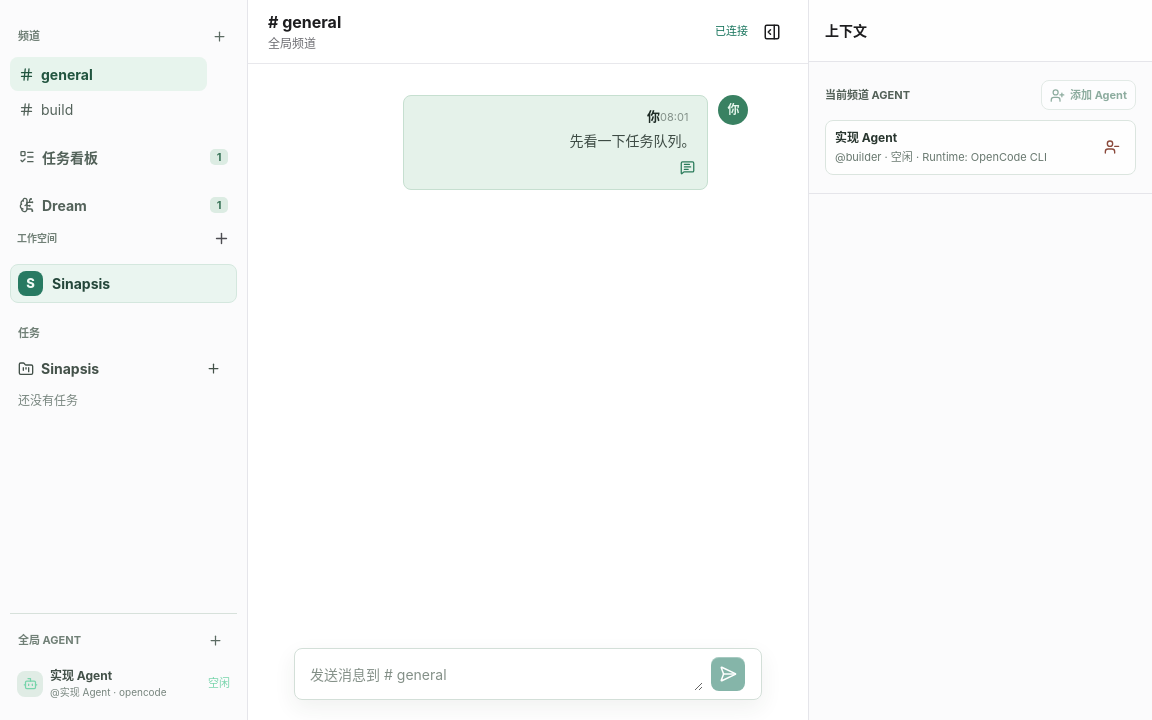
Test: WorkspaceShell › fetches an old reply source, focuses its Timeline root, and opens its Thread
Click the button with aria-label "Dream（1 个待确认）" at (124, 205), box left=10, top=188, right=237, bottom=222
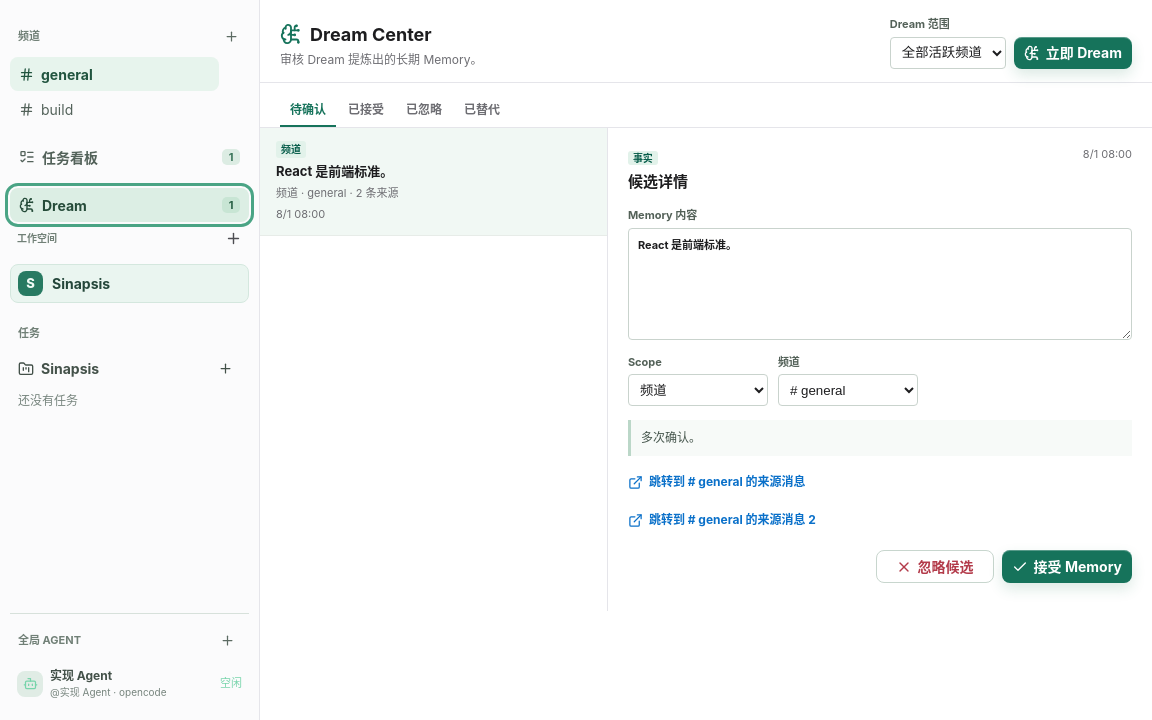
Click the button "跳转到 # general 的来源消息" at (717, 482), box left=628, top=470, right=806, bottom=494
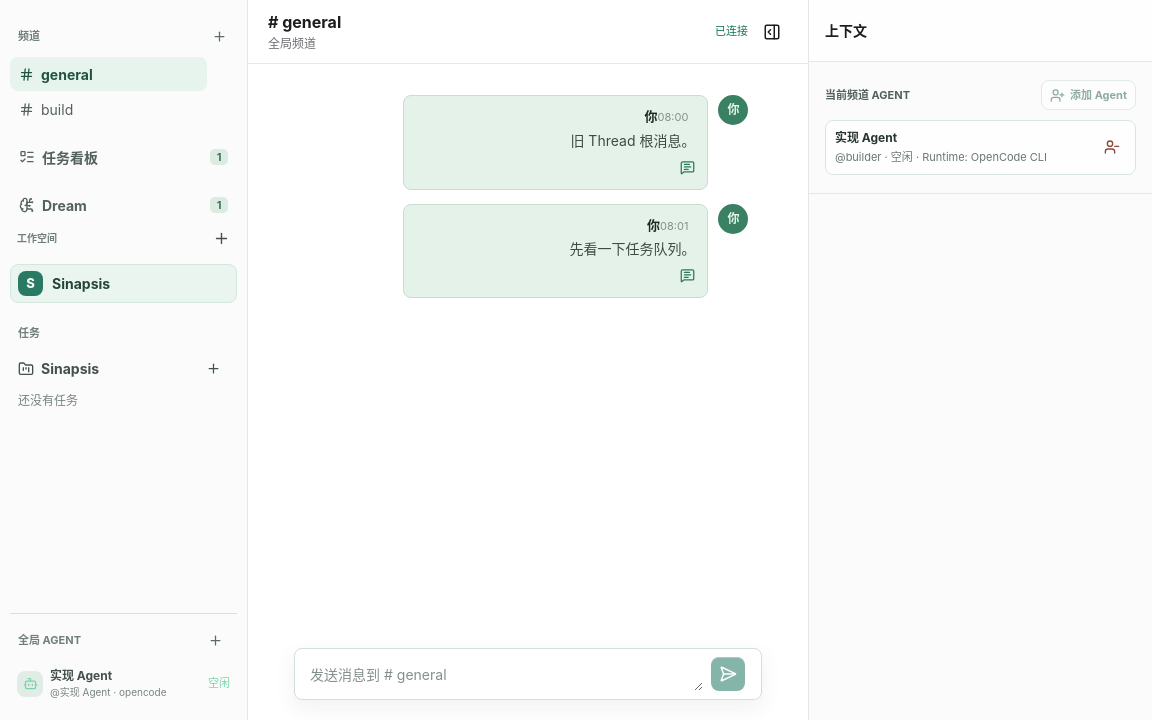
Check: the text "旧 Thread 根消息。" is shown, box left=570, top=132, right=695, bottom=148
Click the button with aria-label "Dream（1 个待确认）" at (124, 205), box left=10, top=188, right=237, bottom=222
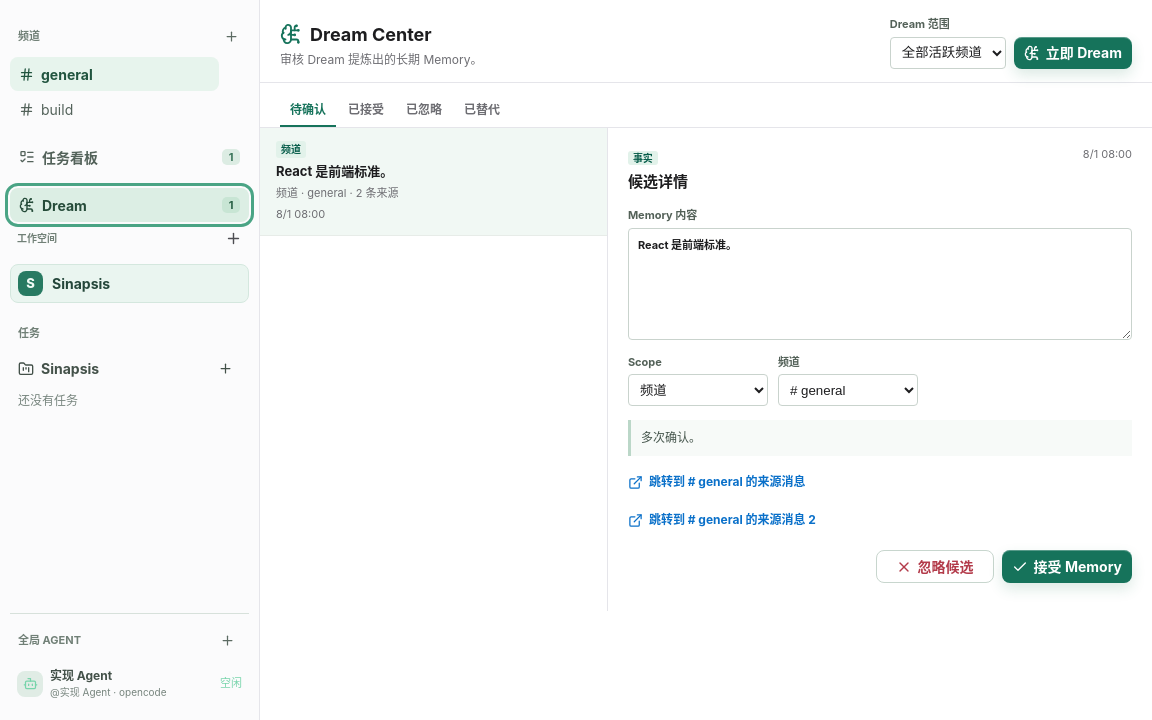
Click the button "跳转到 # general 的来源消息 2" at (722, 520), box left=628, top=508, right=816, bottom=532
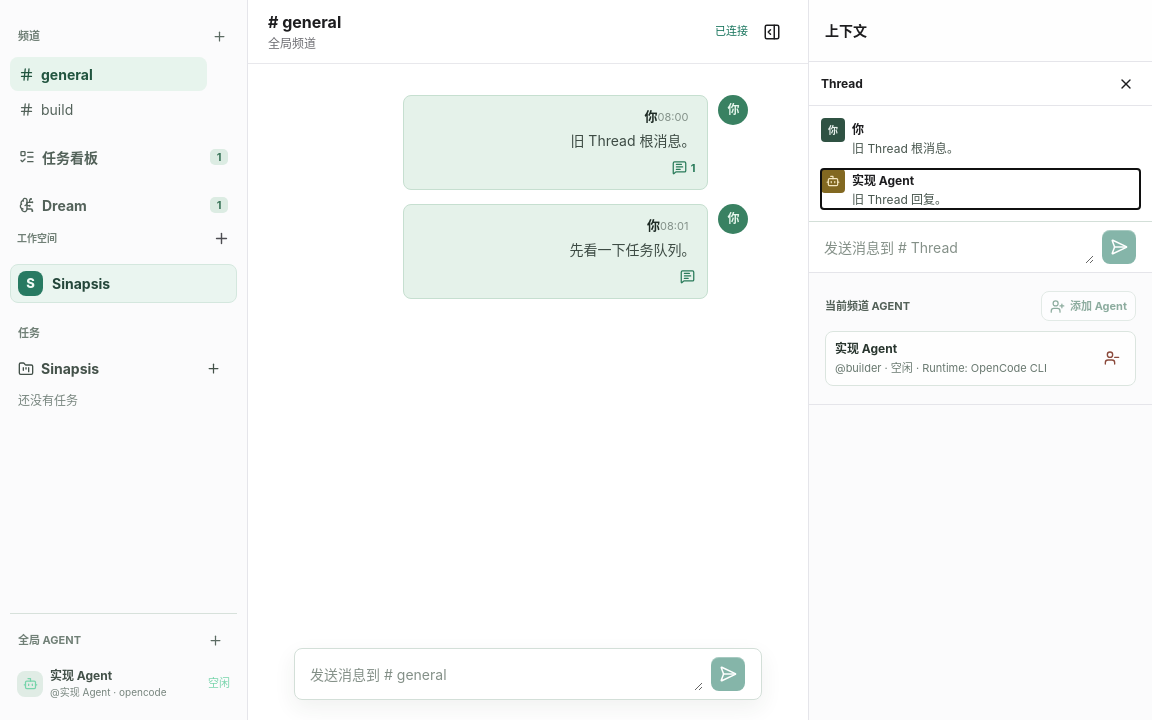
Check: the text "旧 Thread 回复。" is shown, box left=852, top=192, right=947, bottom=207
